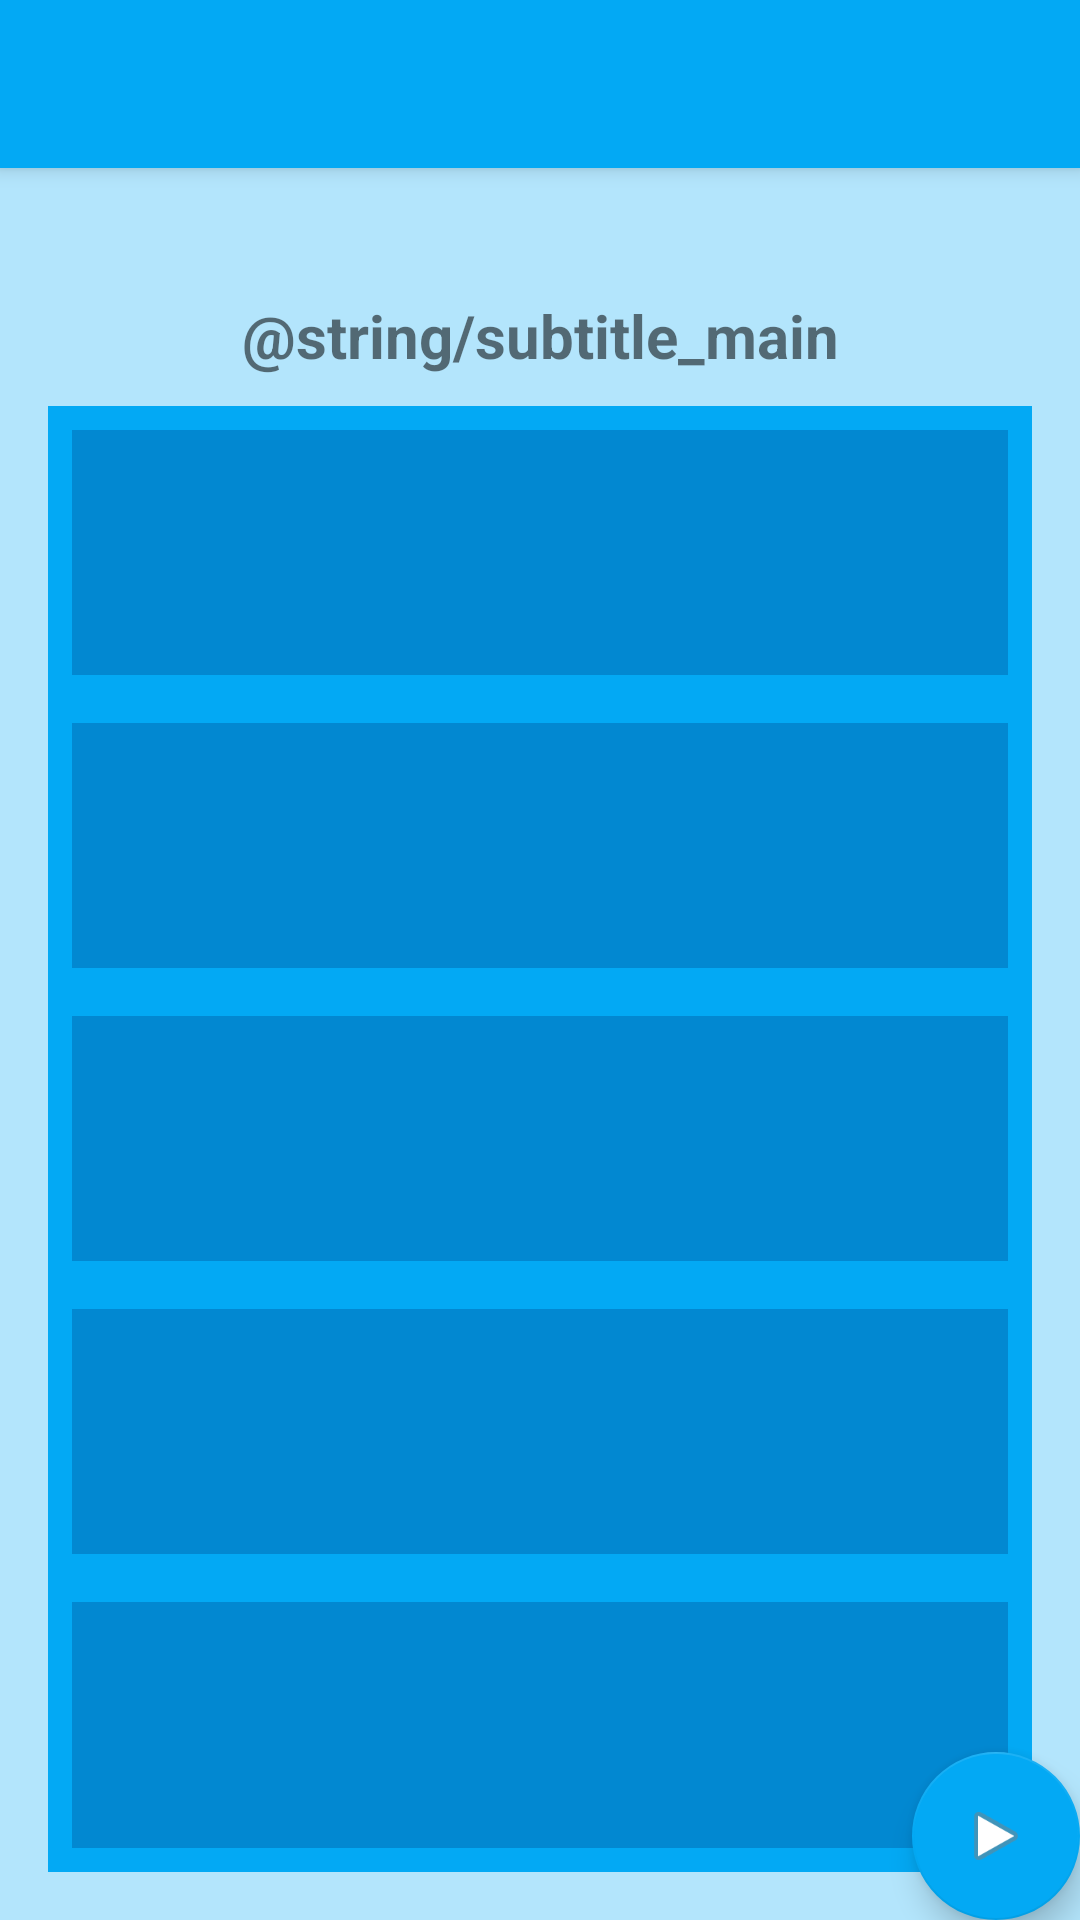

Icons on this 1080 × 1920 Android screen, each with the point to tap as (x=x, y=y):
play: (x=996, y=1836)
